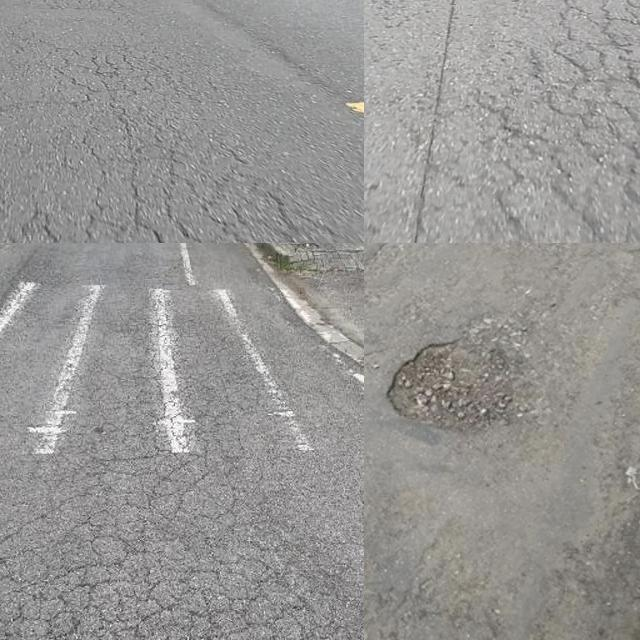Lubang: (399, 343, 545, 445)
Retak Buaya: (0, 427, 362, 640), (483, 0, 640, 243)
